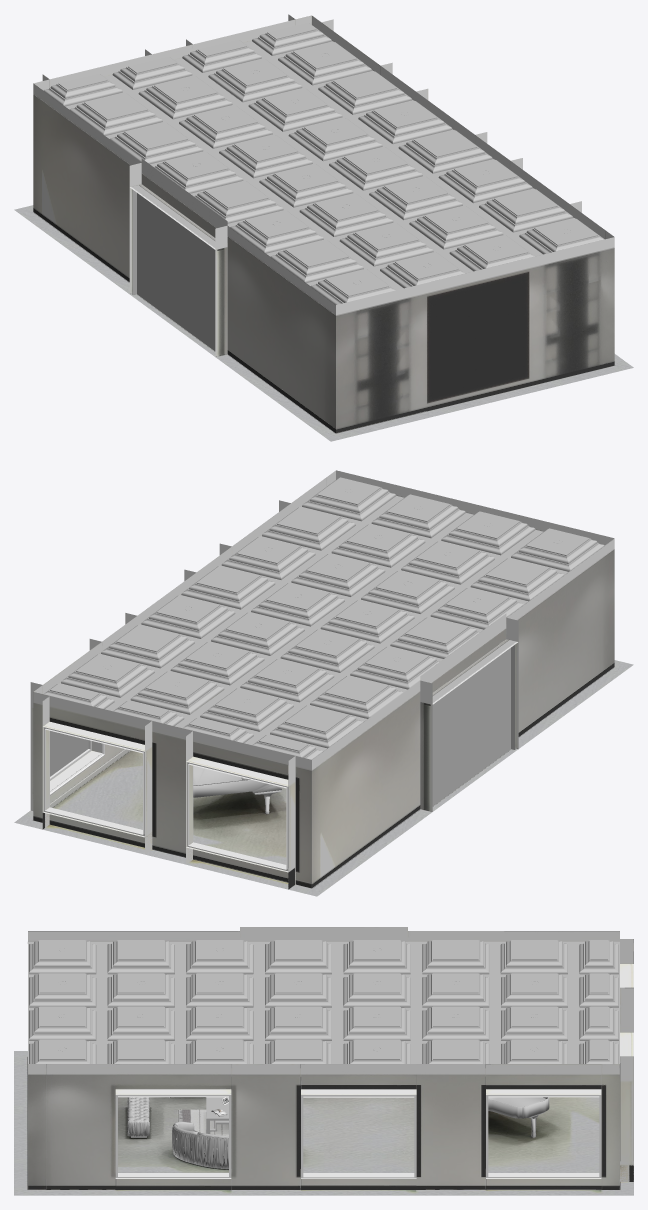
Rendered from living.gltf.
The picture shows the model from 3 angles, top to bottom: view 1: azimuth 30°, elevation 25°; view 2: azimuth 150°, elevation 25°; view 3: azimuth 270°, elevation 25°; orthographic projection. The views are drawn at different scales.
Visible parts, largest first — view 1: Roof1, Wall, Door_low, san; view 2: Roof1, Wall, san, Door_low, FrameWindows, PianoLow, Glass; view 3: Roof1, Wall, san, FrameWindows, SofaLow, PianoLow, BigSofaLow, Rug, Table.
Part boxes in pixels (box(x1,y1,x2,y2)): Roof1: box(36, 22, 604, 304); Wall: box(33, 14, 614, 433); Door_low: box(132, 185, 215, 350); san: box(14, 205, 633, 441); Roof1: box(43, 477, 604, 761); Wall: box(30, 470, 614, 889); san: box(14, 660, 633, 896); Door_low: box(432, 640, 515, 805); FrameWindows: box(44, 727, 288, 870); PianoLow: box(193, 766, 281, 813); Glass: box(50, 731, 88, 776); Roof1: box(27, 940, 619, 1063); Wall: box(28, 927, 633, 1189); san: box(14, 1051, 633, 1195); FrameWindows: box(115, 1095, 601, 1178); SofaLow: box(172, 1121, 228, 1169); PianoLow: box(488, 1097, 549, 1137); BigSofaLow: box(127, 1097, 149, 1137); Rug: box(179, 1109, 228, 1135); Table: box(206, 1097, 228, 1133).
Bounding box in the file's own units: 7.42 × 3.11 × 13.4.
